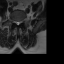CCS_severe_stenosis: (17, 19, 18, 26)
LFS_normal: (20, 19, 22, 24)
LLS_normal: (18, 19, 20, 25)
RFS_normal: (13, 18, 15, 25)
RLS_normal: (15, 19, 17, 25)
